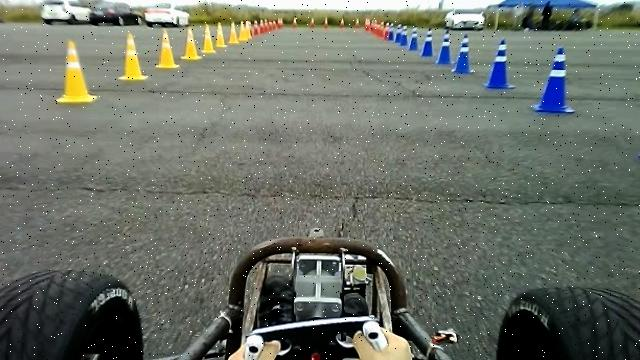blue cone: (533, 46, 575, 113), (485, 38, 517, 89), (452, 34, 475, 74), (436, 27, 456, 64), (421, 27, 435, 57), (409, 25, 419, 50)
yellow cone: (56, 39, 98, 103), (118, 32, 148, 80), (156, 27, 180, 68), (181, 26, 203, 60), (202, 23, 216, 53), (215, 21, 228, 48), (229, 21, 239, 44)
